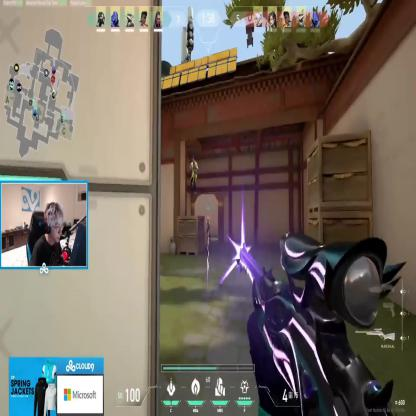enemy: (188, 157, 199, 193), (205, 215, 211, 245)
enemy_head: (192, 156, 195, 164), (207, 217, 210, 222)
